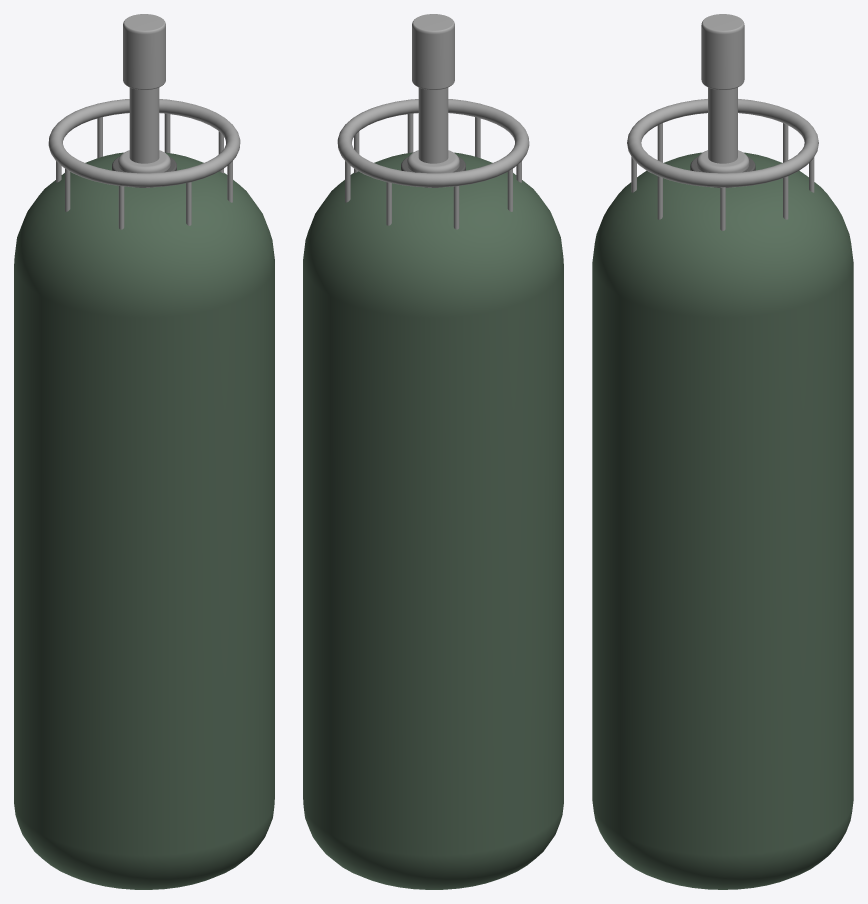
Rendered from Lost Robot Canister.fbx.
The picture shows the model from 3 angles, left to right: view 1: azimuth 30°, elevation 25°; view 2: azimuth 150°, elevation 25°; view 3: azimuth 270°, elevation 25°; orthographic projection.
Parts seen in each view (by area): view 1: Canister; view 2: Canister; view 3: Canister.
Boxes of the visible parts, box(x1,y1,x2,y2) form: Canister: box(14, 14, 274, 889); Canister: box(303, 14, 563, 889); Canister: box(592, 14, 853, 889).
Size of the model in its own units: 2 by 7.03 by 2.
